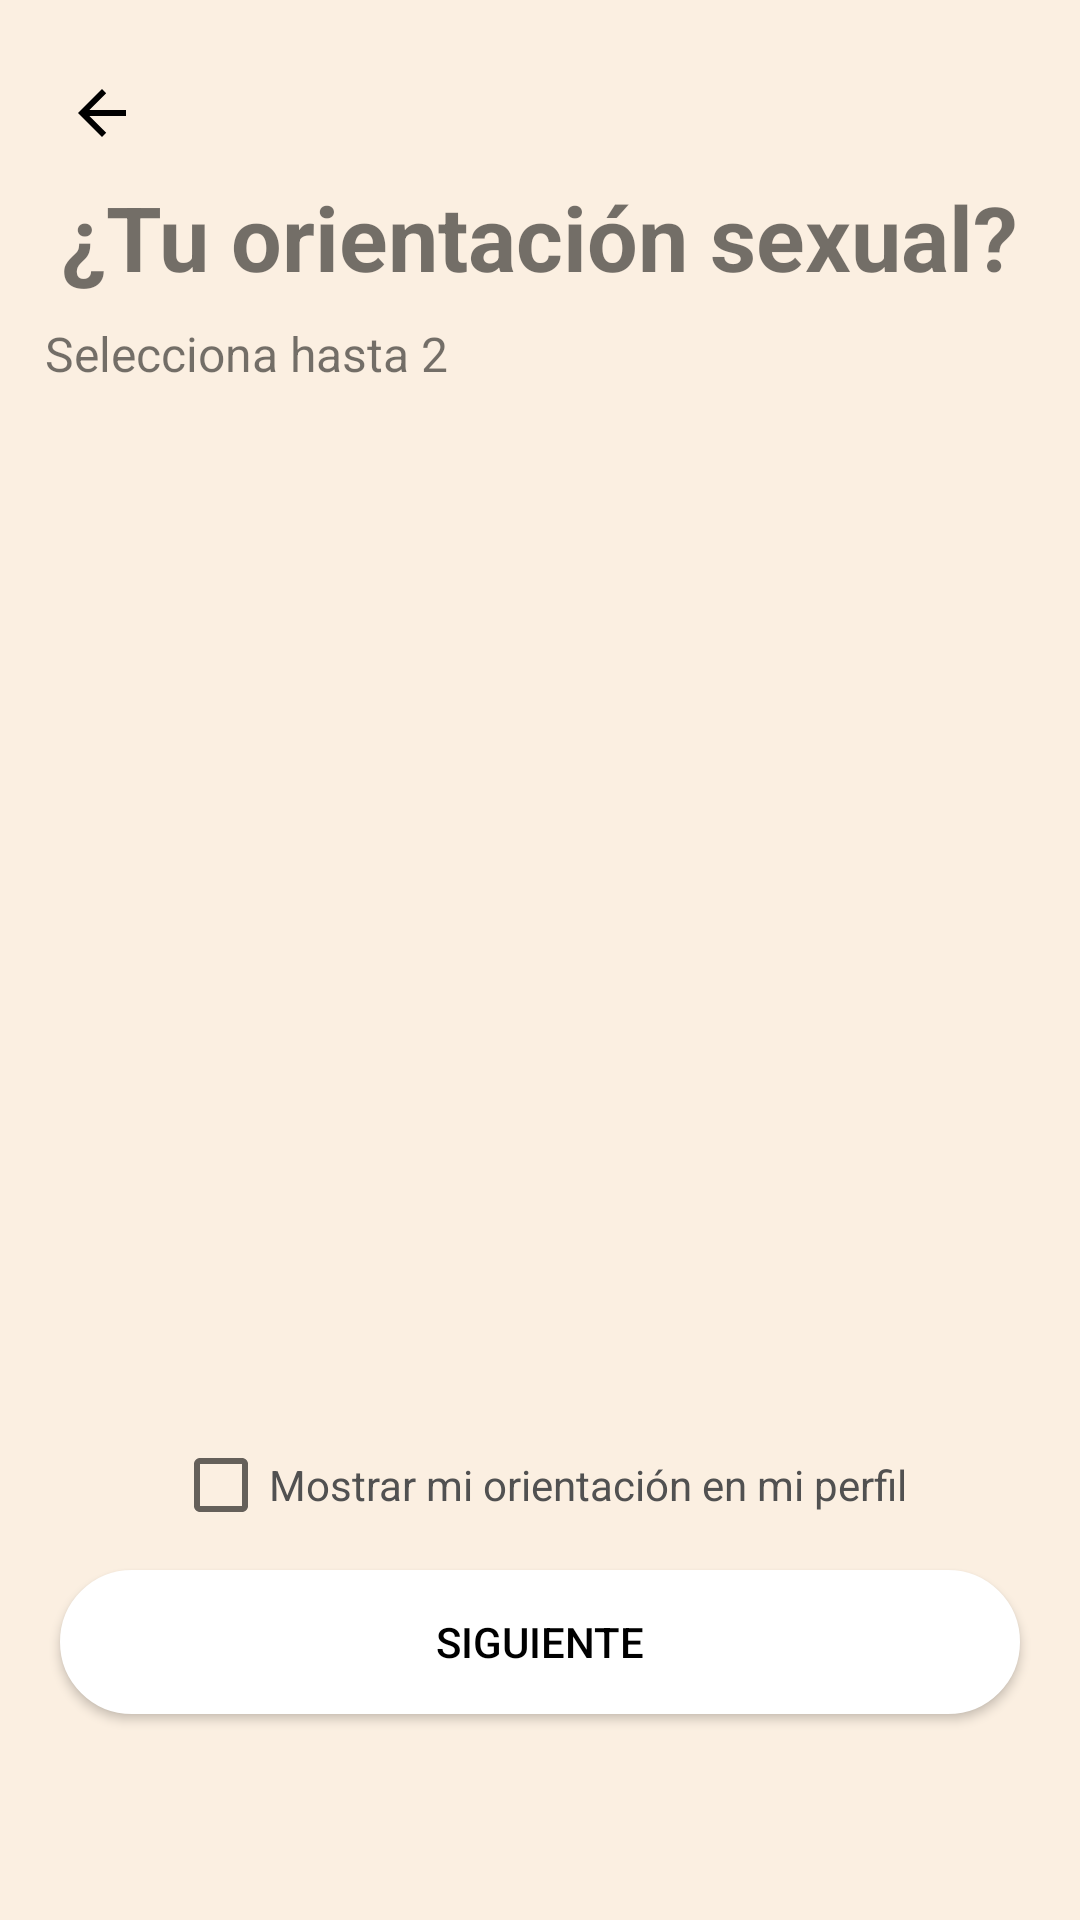

Icon click points for this 1080px×1920px phone screenshot, format (x,y):
Volver atras: (102,113)
